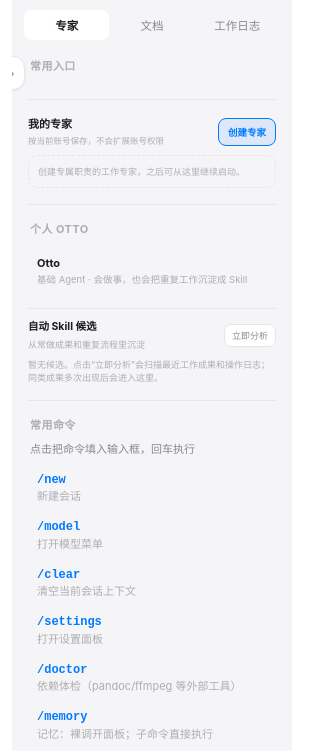
Test: RightPanel fixed Agent catalog › does not keep the legacy mascot stage in the right panel
This screenshot has width=332, height=751.
Click the tab "工作日志" at (237, 25), box [195, 10, 280, 40]
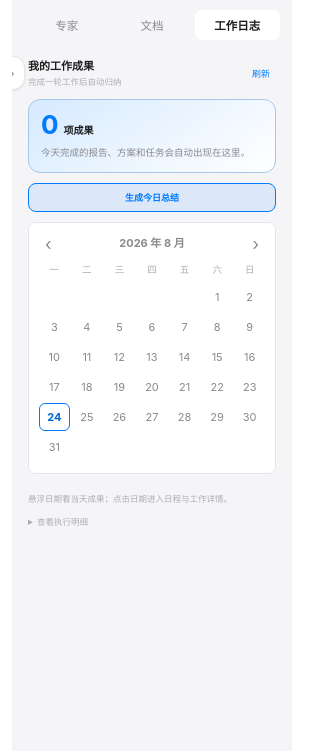
Expected: the button "刷新" is enabled, [246, 66, 276, 81]
